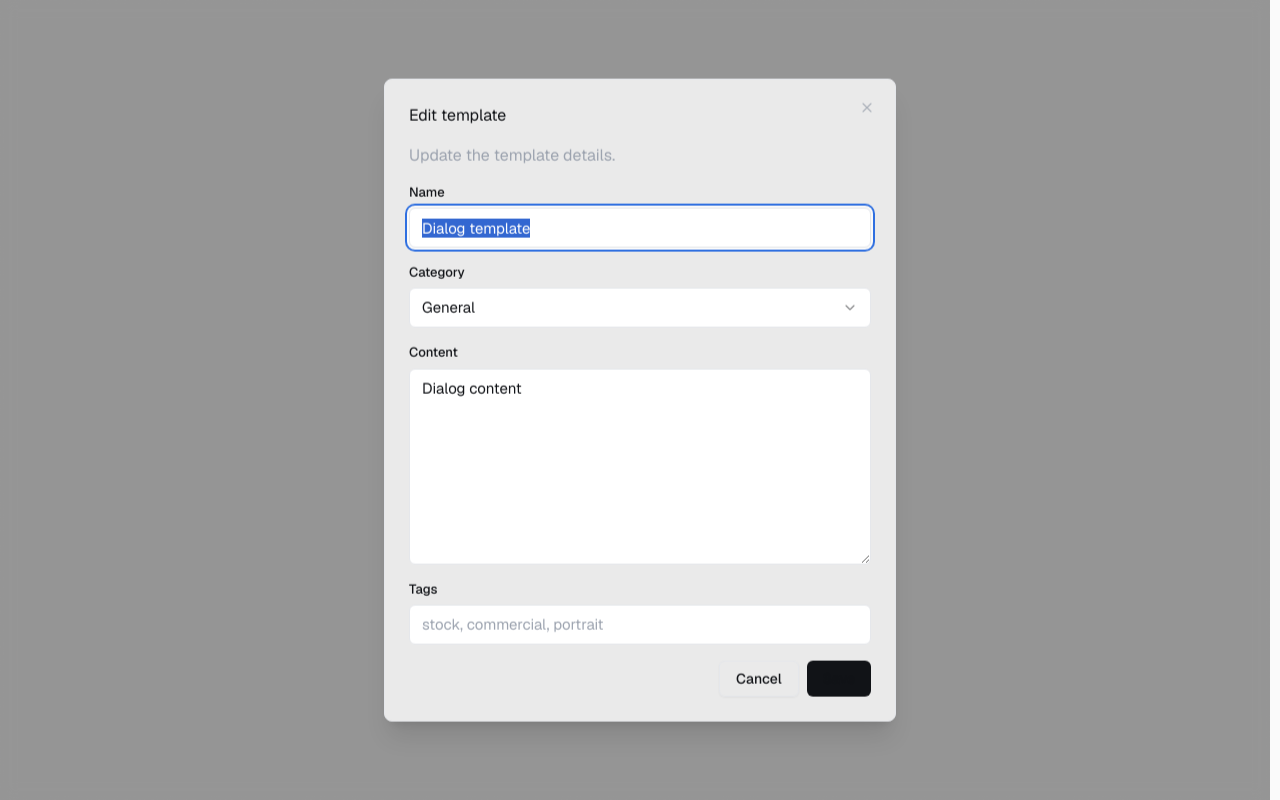
it: TemplateForm › keeps the category popup above a real dialog and allows selection
The width and height of the screenshot is (1280, 800).
Step 1. Click the button named "Category" → [448, 307], box [409,288,871,328]
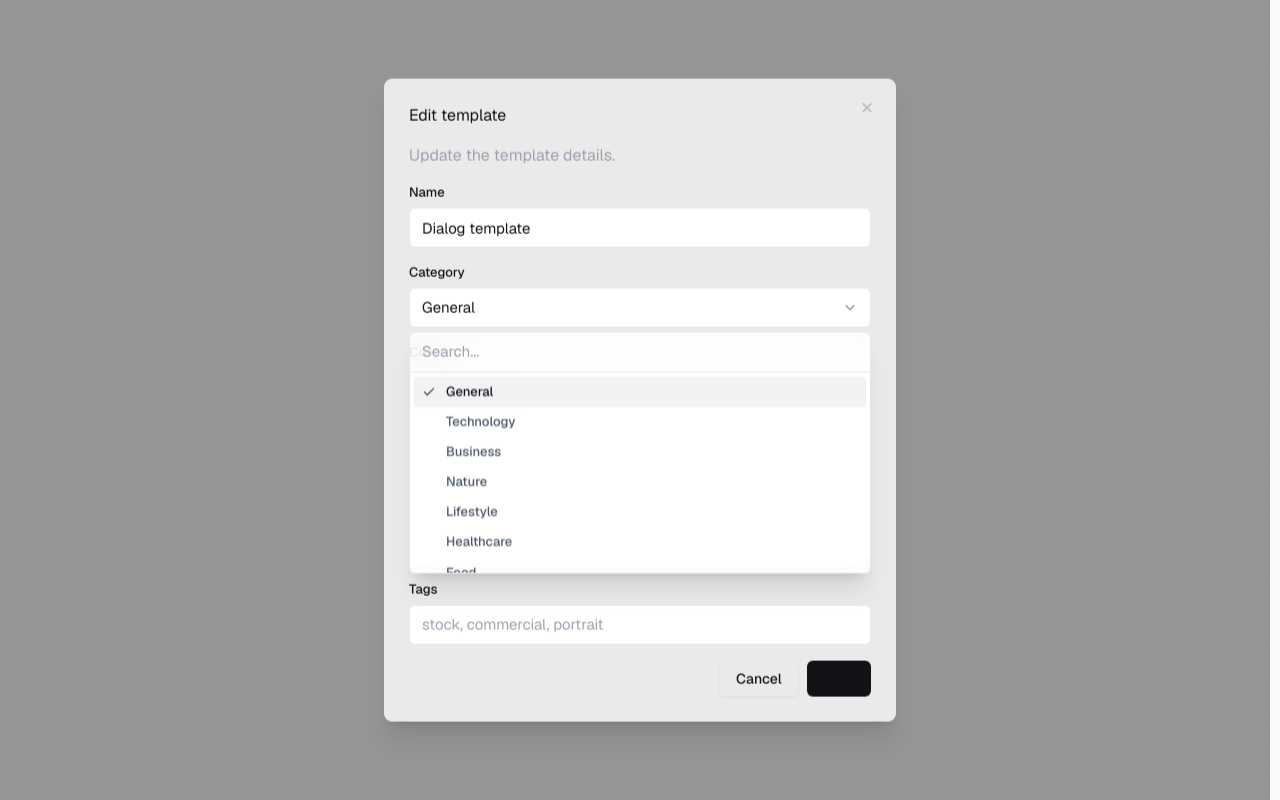
Step 2. Click the option "Technology" → [481, 421], box [446,412,515,429]
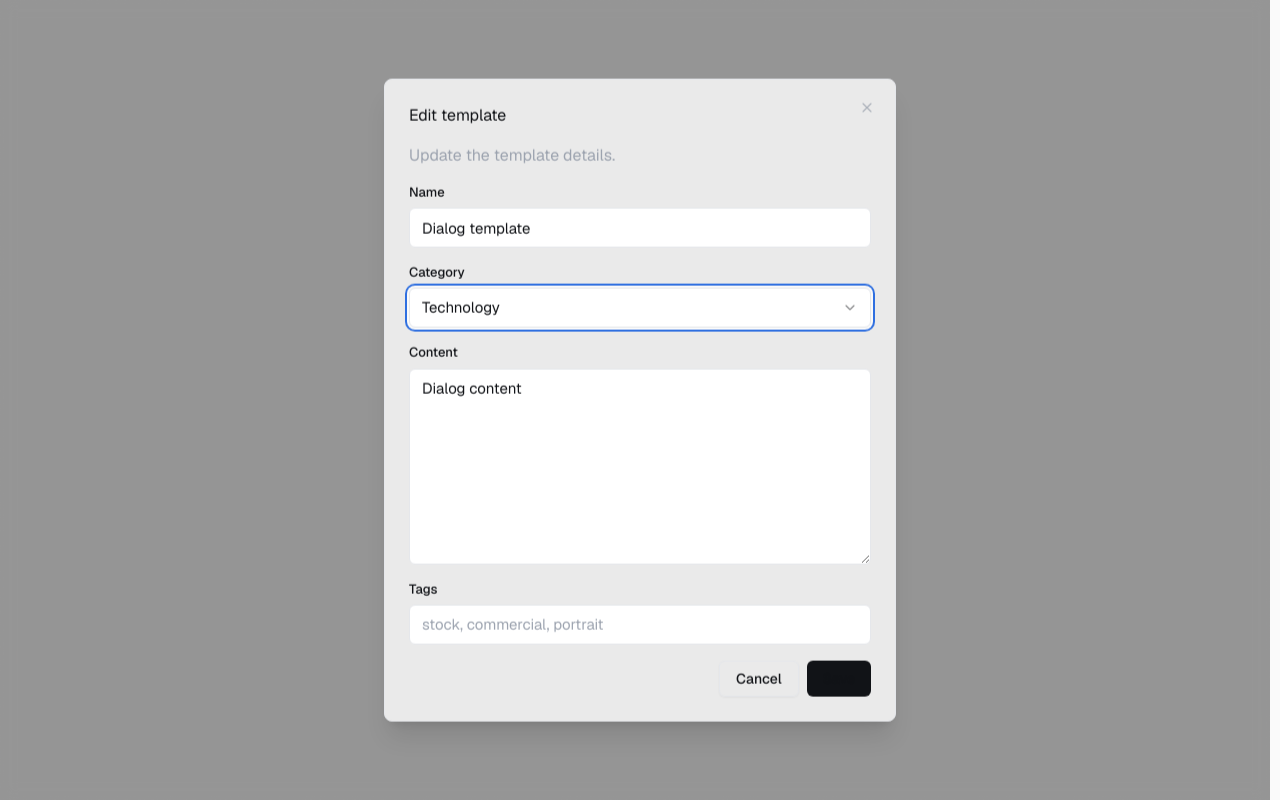
Expected: the button named "Category" reads "Technology", [409,288,871,328]
